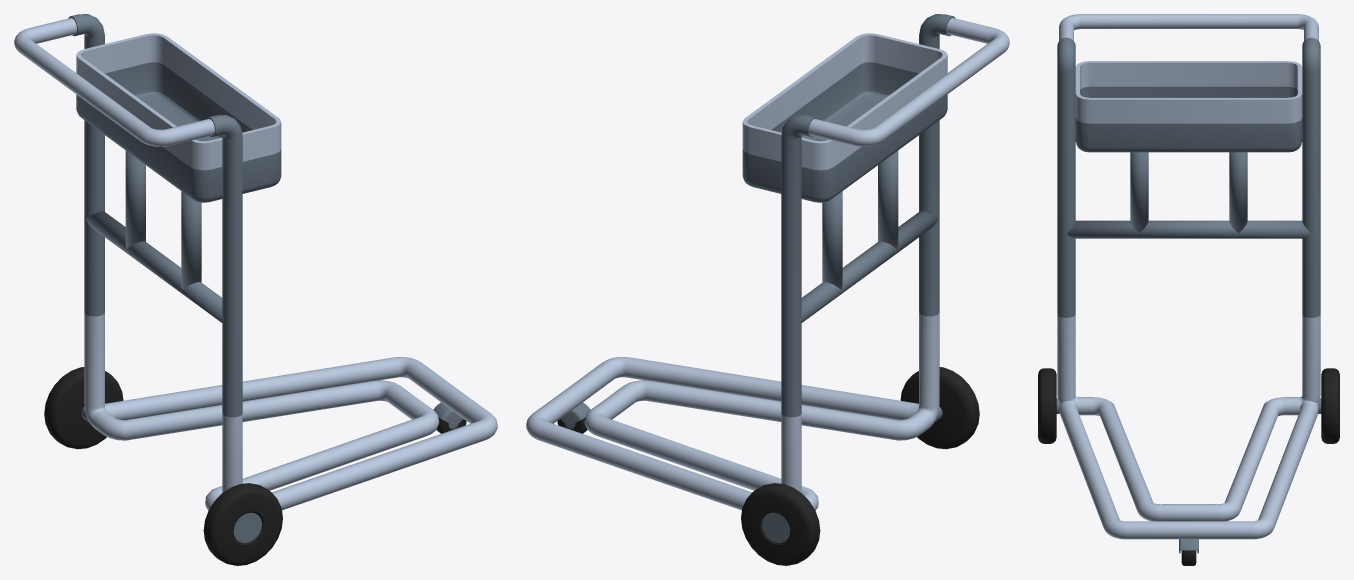
Rendered from airport-luggage-cart.glb.
The picture shows the model from 3 angles, left to right: view 1: azimuth 30°, elevation 25°; view 2: azimuth 150°, elevation 25°; view 3: azimuth 270°, elevation 25°; orthographic projection. The views are drawn at different scales.
Visible parts, largest first — view 1: 17.3.Model_AIRPORT_0; view 2: 17.3.Model_AIRPORT_0; view 3: 17.3.Model_AIRPORT_0.
Boxes of the visible parts, left/top/right/bottom form: 17.3.Model_AIRPORT_0: left=14, top=14, right=497, bottom=565; 17.3.Model_AIRPORT_0: left=526, top=14, right=1009, bottom=565; 17.3.Model_AIRPORT_0: left=1038, top=14, right=1339, bottom=565.
Size of the model in its own units: 1.02 by 1.12 by 0.7801.
1 material, 1 textured.
